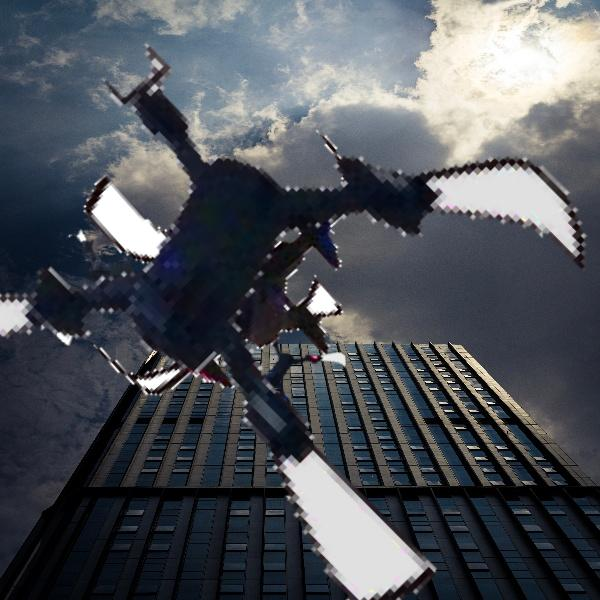drone: (63, 88, 389, 414), (45, 228, 182, 365), (240, 326, 342, 428)
